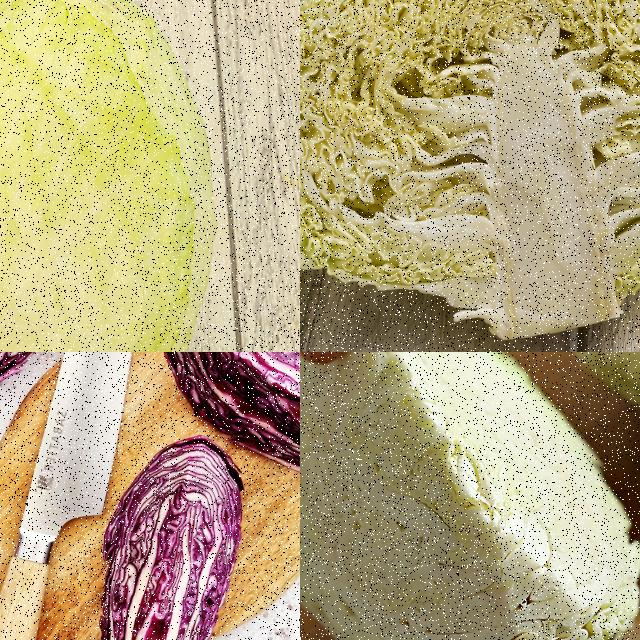cabbage: (300, 0, 639, 345), (300, 352, 639, 639), (0, 0, 225, 351), (95, 435, 248, 639), (156, 352, 299, 490)
